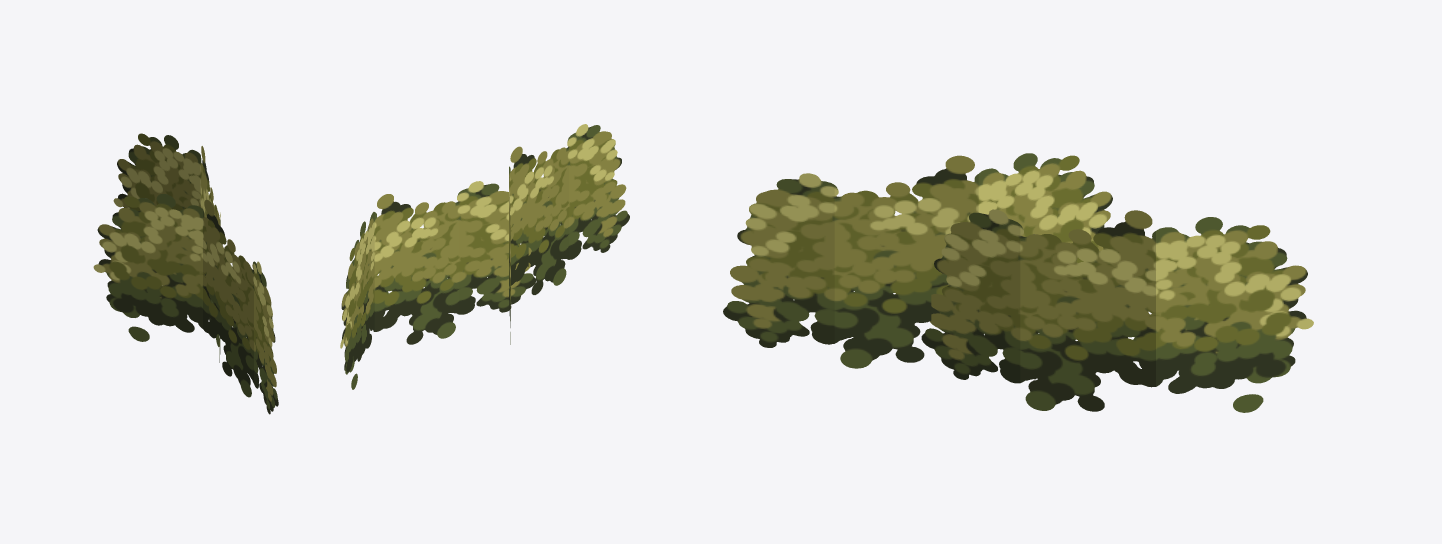
Rendered from bush1.fbx.
3 views of the same model, side by side, from view 1: azimuth 30°, elevation 25°; view 2: azimuth 150°, elevation 25°; view 3: azimuth 270°, elevation 25° (orthographic). The views are drawn at different scales.
Parts seen in each view (by area): view 1: bush pack.089; view 2: bush pack.089; view 3: bush pack.089.
Part boxes in pixels (x1,y1,x2,y2): bush pack.089: (93,133,278,414); bush pack.089: (340,124,629,389); bush pack.089: (723,153,1313,412).
Bounding box in the file's own units: 62.56 × 117 × 191.
1 material, 1 textured.
